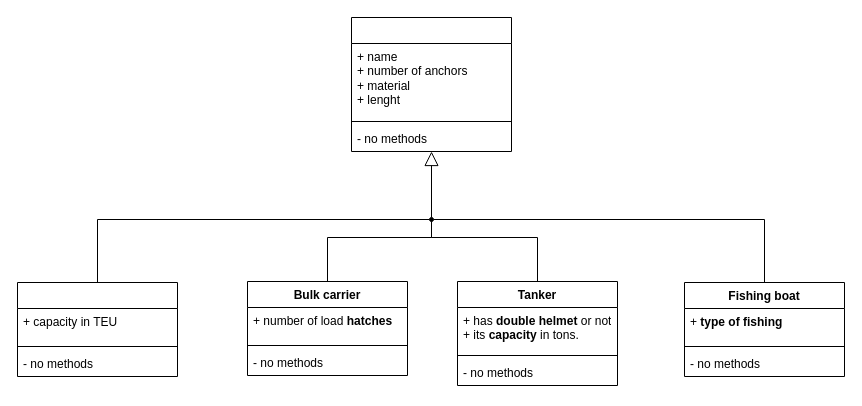
The diagram is 862 pixels wide and 406 high, and some of its shapes have lost their labels. The shapes that lost their labels are listed below. From the top down, each one's box as (x1, y1, x2, y2) in pixels, then its label:
(350, 16, 512, 152): Ship
(16, 282, 178, 376): Container ship
